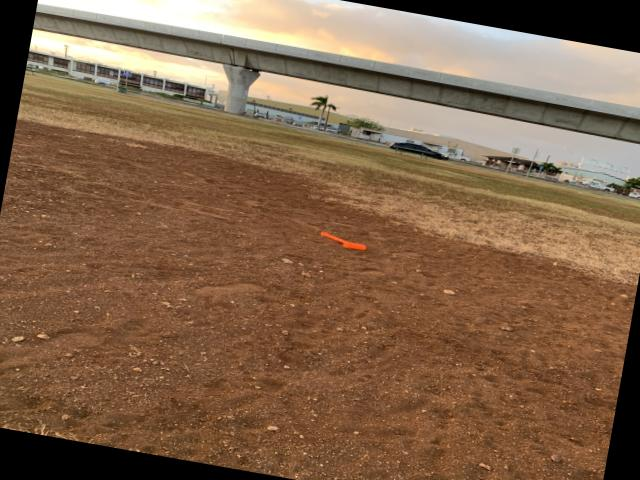hammer: (317, 230, 368, 252)
